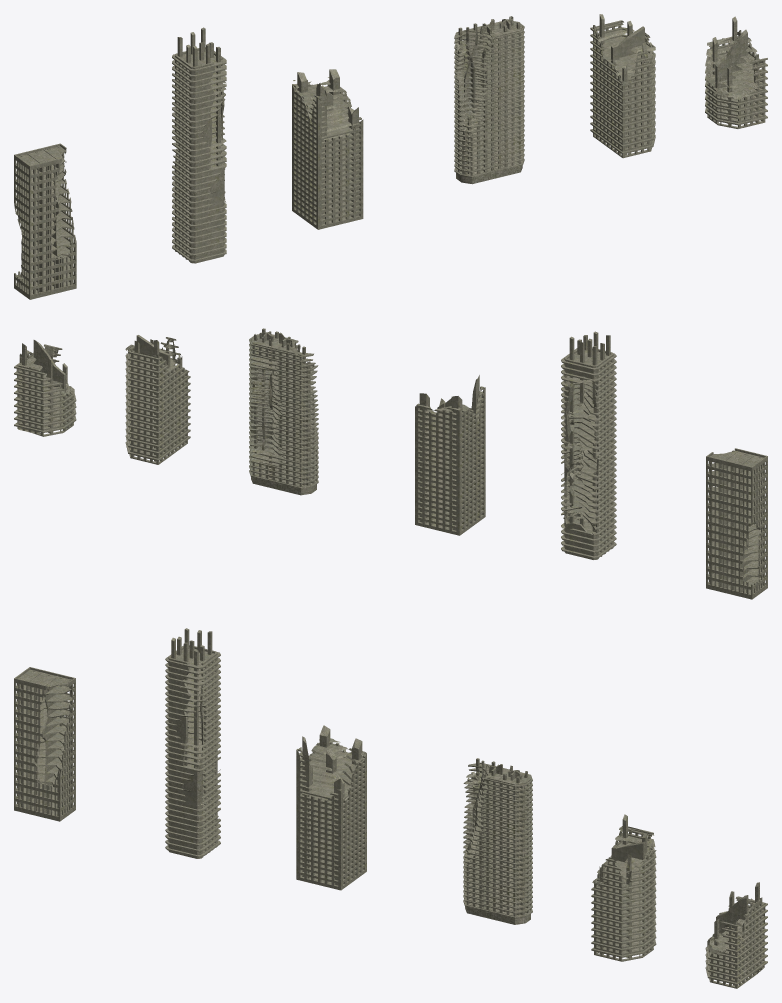
Rendered from ruin_pack.glb.
3 views of the same model, one above another, from view 1: azimuth 30°, elevation 25°; view 2: azimuth 150°, elevation 25°; view 3: azimuth 330°, elevation 25° (orthographic).
Visible parts, largest first — view 1: Cube.005_2, Plane.003_5, Cube.014_4, Cube.003_1, Cube.002_0, Cube.009_3; view 2: Cube.005_2, Plane.003_5, Cube.014_4, Cube.003_1, Cube.002_0, Cube.009_3; view 3: Cube.005_2, Plane.003_5, Cube.014_4, Cube.003_1, Cube.002_0, Cube.009_3.
Part boxes in pixels (x1,y1,x2,y2): Cube.005_2: (172,27,226,263); Plane.003_5: (454,16,524,184); Cube.014_4: (292,69,363,229); Cube.003_1: (14,143,76,299); Cube.002_0: (590,14,655,158); Cube.009_3: (705,16,767,128); Cube.005_2: (561,331,616,559); Plane.003_5: (249,328,318,495); Cube.014_4: (415,375,485,535); Cube.003_1: (706,448,767,599); Cube.002_0: (125,335,190,464); Cube.009_3: (14,340,76,436); Cube.005_2: (165,628,220,858); Plane.003_5: (463,758,532,924); Cube.014_4: (296,725,366,890); Cube.003_1: (14,667,75,821); Cube.002_0: (591,814,656,961); Cube.009_3: (705,882,767,988).
Size of the model in its own units: 49.5 by 13.98 by 3.88.
Materials: 1 (1 with a texture image).
